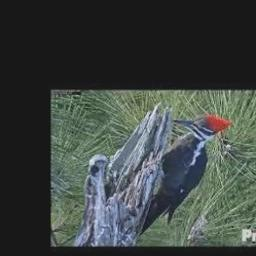Woodpecker: (137, 114, 232, 238)
